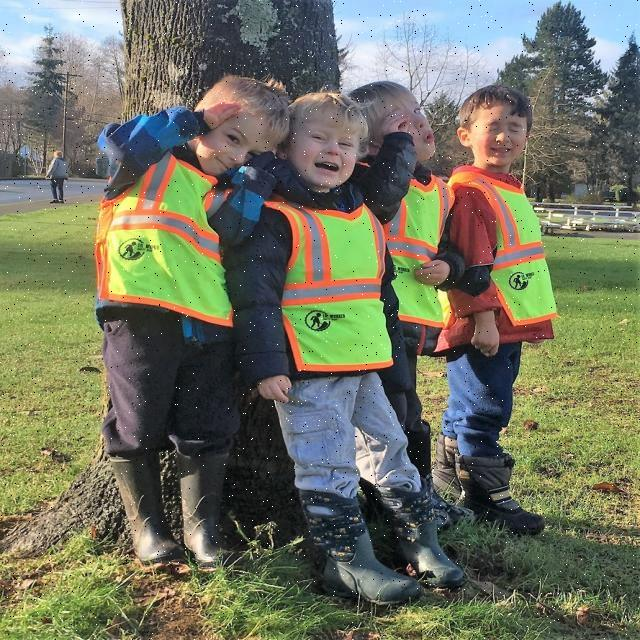Vest: (269, 199, 397, 372), (98, 155, 229, 322), (465, 173, 558, 329), (388, 178, 457, 333)
